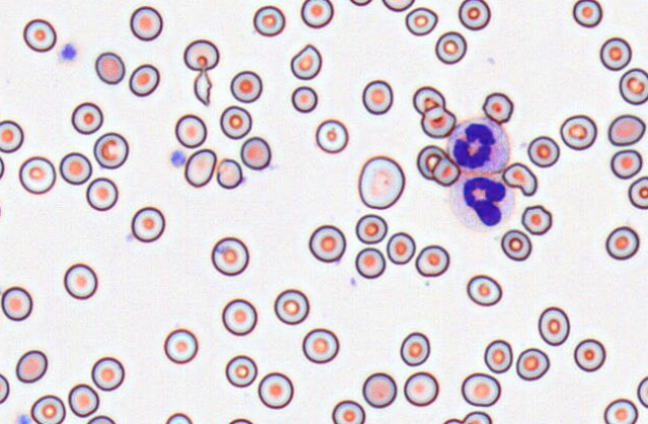GRAN: (450, 169, 518, 230), (448, 115, 511, 174)
PLT: (56, 43, 78, 63), (171, 149, 187, 168)
RBC: (357, 155, 405, 209), (416, 144, 460, 186), (210, 236, 249, 276), (18, 155, 56, 194), (308, 224, 346, 262), (460, 372, 501, 407), (301, 327, 339, 364), (559, 114, 597, 150), (257, 371, 293, 409), (221, 298, 257, 336), (273, 288, 309, 325), (93, 131, 128, 169), (537, 306, 570, 346), (361, 372, 397, 408), (163, 328, 198, 364), (130, 206, 165, 242), (63, 262, 97, 299), (184, 148, 216, 187), (403, 371, 438, 406), (605, 225, 640, 260), (129, 5, 163, 41), (607, 114, 645, 146), (314, 118, 348, 153), (22, 18, 57, 52), (420, 105, 456, 138), (515, 347, 549, 381), (174, 113, 207, 148), (599, 36, 632, 71), (85, 176, 118, 211), (91, 356, 124, 391), (183, 39, 219, 71), (466, 274, 502, 306), (361, 79, 393, 115), (0, 285, 32, 321), (618, 67, 648, 105), (415, 244, 449, 277), (434, 30, 467, 64), (219, 105, 252, 139), (59, 151, 92, 185), (573, 338, 606, 372), (527, 135, 560, 168), (229, 70, 262, 103), (128, 63, 160, 97), (67, 383, 99, 417), (15, 349, 47, 383), (399, 331, 430, 366), (500, 228, 532, 261), (71, 101, 103, 134), (225, 354, 257, 387), (240, 136, 271, 170), (30, 394, 65, 424), (94, 51, 125, 84), (252, 5, 285, 36), (404, 6, 438, 36), (482, 92, 513, 124), (355, 213, 387, 244), (354, 247, 385, 279), (412, 85, 445, 115), (458, 0, 491, 30), (483, 339, 512, 373), (521, 204, 552, 235), (610, 149, 642, 179), (386, 231, 415, 264), (300, 0, 333, 28), (603, 398, 638, 424), (572, 0, 603, 28), (216, 157, 243, 189), (331, 399, 365, 424), (0, 119, 23, 153), (291, 85, 317, 113), (628, 175, 648, 209), (636, 375, 648, 408), (462, 411, 492, 424), (381, 0, 414, 11), (164, 412, 193, 424), (85, 414, 116, 424), (0, 372, 9, 404), (14, 413, 34, 424), (225, 417, 255, 424), (348, 0, 373, 6), (0, 155, 5, 180), (0, 196, 3, 228)
Schistocyte: (289, 41, 323, 81), (502, 160, 538, 197), (193, 66, 214, 107)
